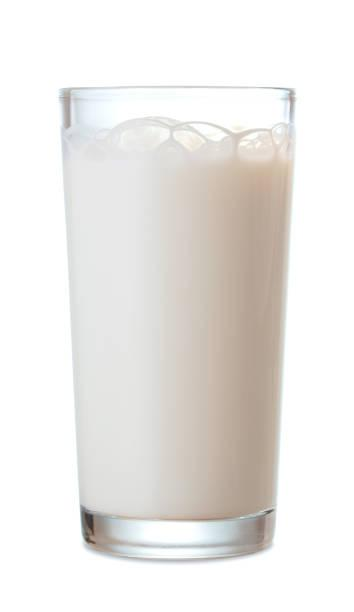produk_susu: (84, 93, 268, 511)
